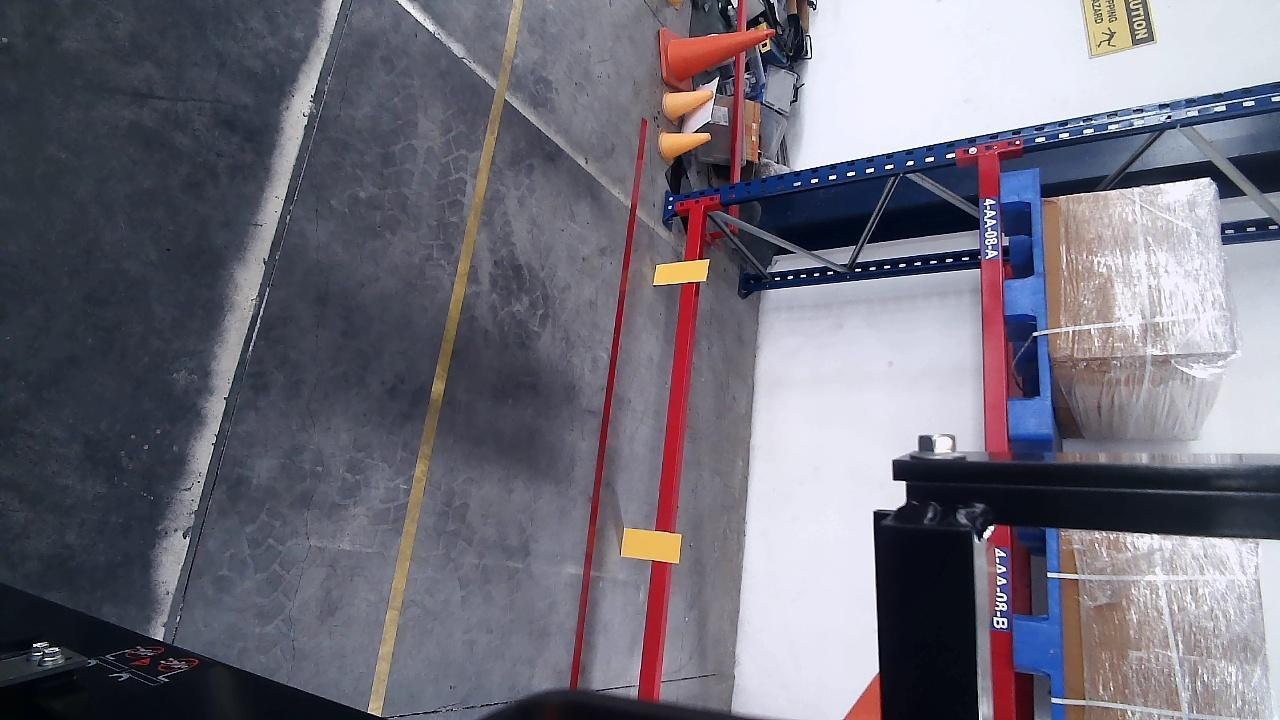h_rack: (638, 205, 704, 698), (975, 154, 1009, 455)
orange_strip: (620, 527, 682, 564), (652, 257, 709, 286)
red_line: (568, 119, 649, 684)
small_pallet: (999, 170, 1048, 437)
yellow_line: (362, 0, 526, 717)
